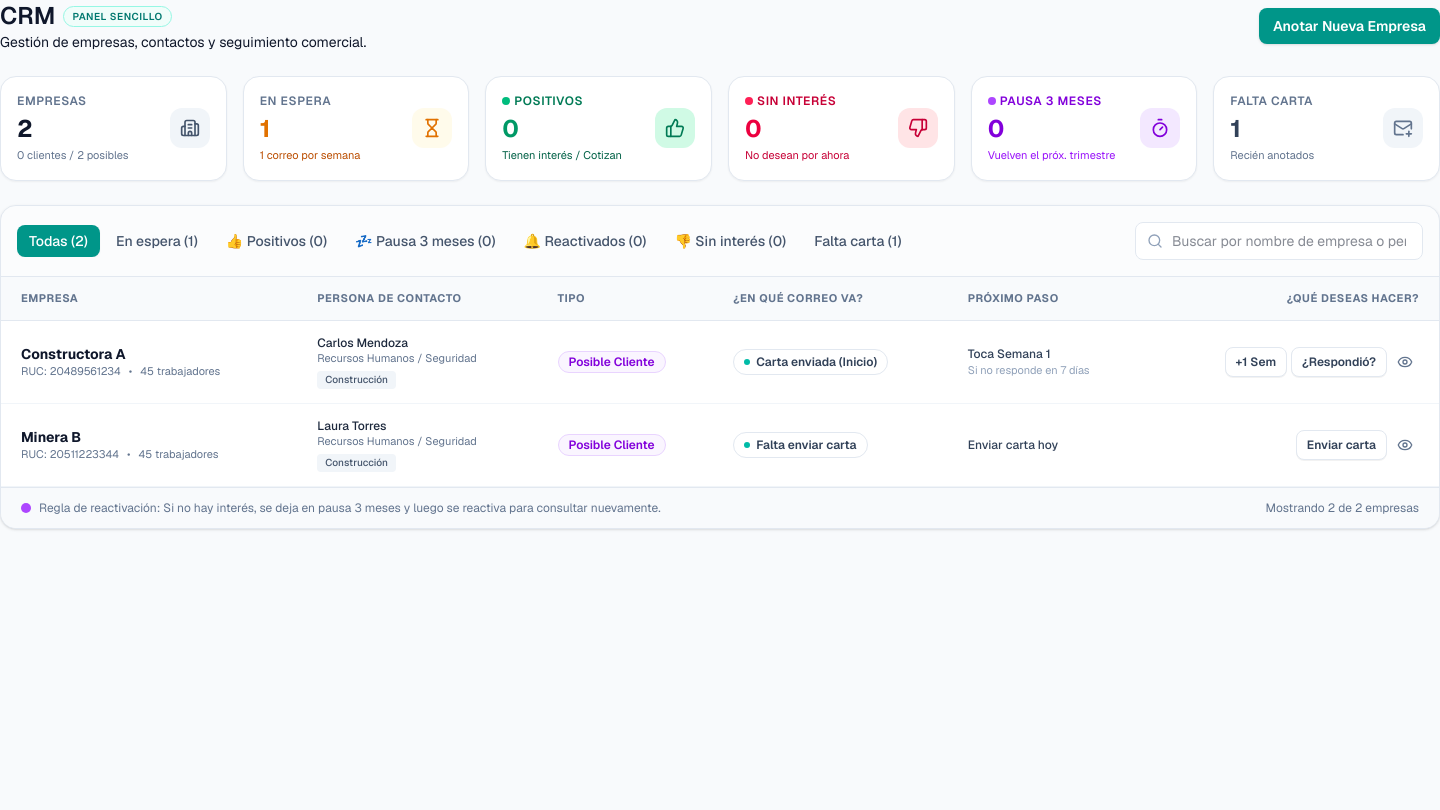
Test: PanelCrm — costuras de modales 9.x (batch 14) › opens ModalRespuesta with the positive radio preselected from ¿Respondió? (spec OP-7)
The width and height of the screenshot is (1440, 810).
Expected: the table is shown, [1, 276, 1439, 487]
Click the button "¿Respondió?": (1339, 362) [1291, 347, 1387, 377]
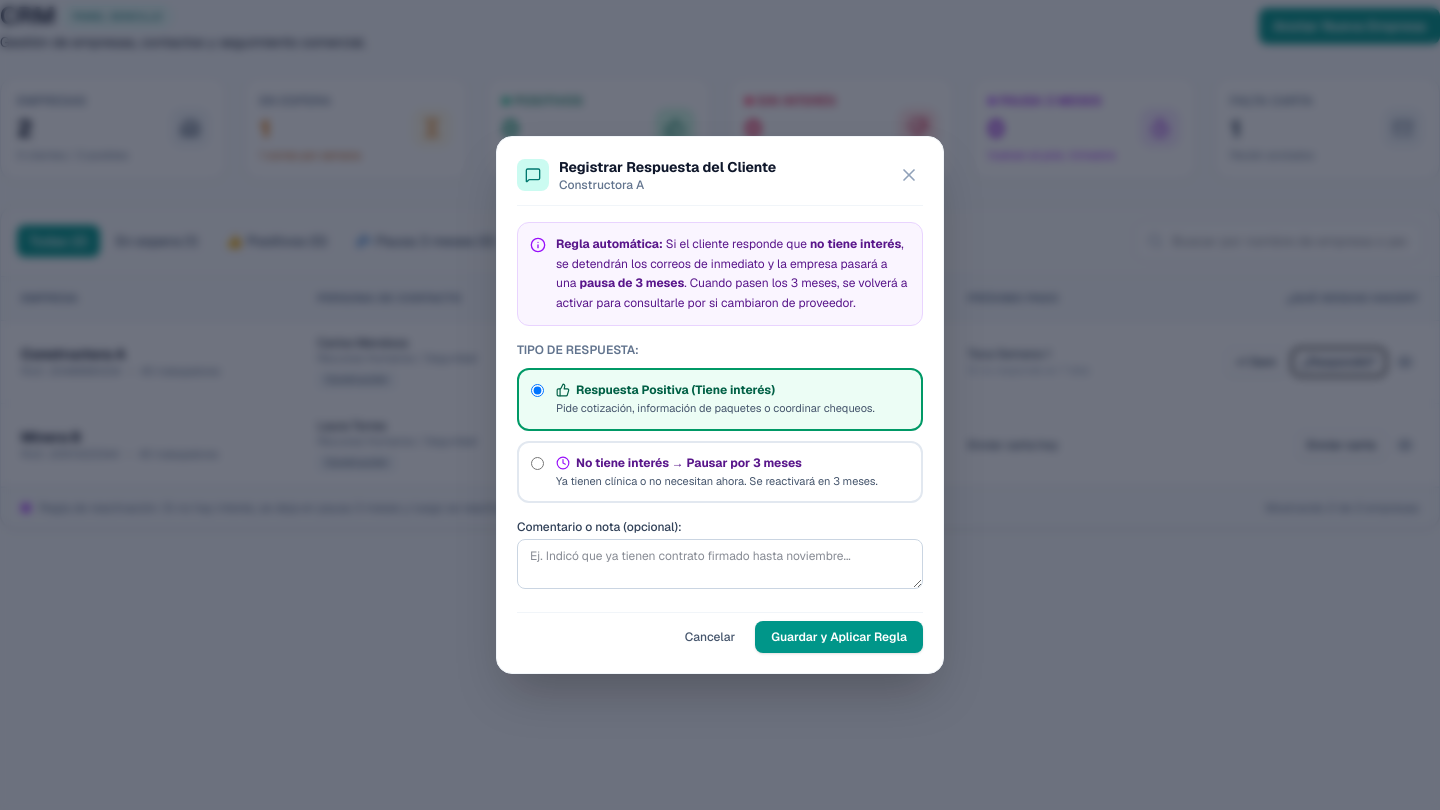
Expected: the dialog "Registrar Respuesta del Cliente" is shown, [496, 136, 944, 674]
Expected: the text "Constructora A" is shown, [559, 177, 644, 193]
Expected: the radio button labelled "Respuesta Positiva" is checked, [531, 384, 544, 397]
